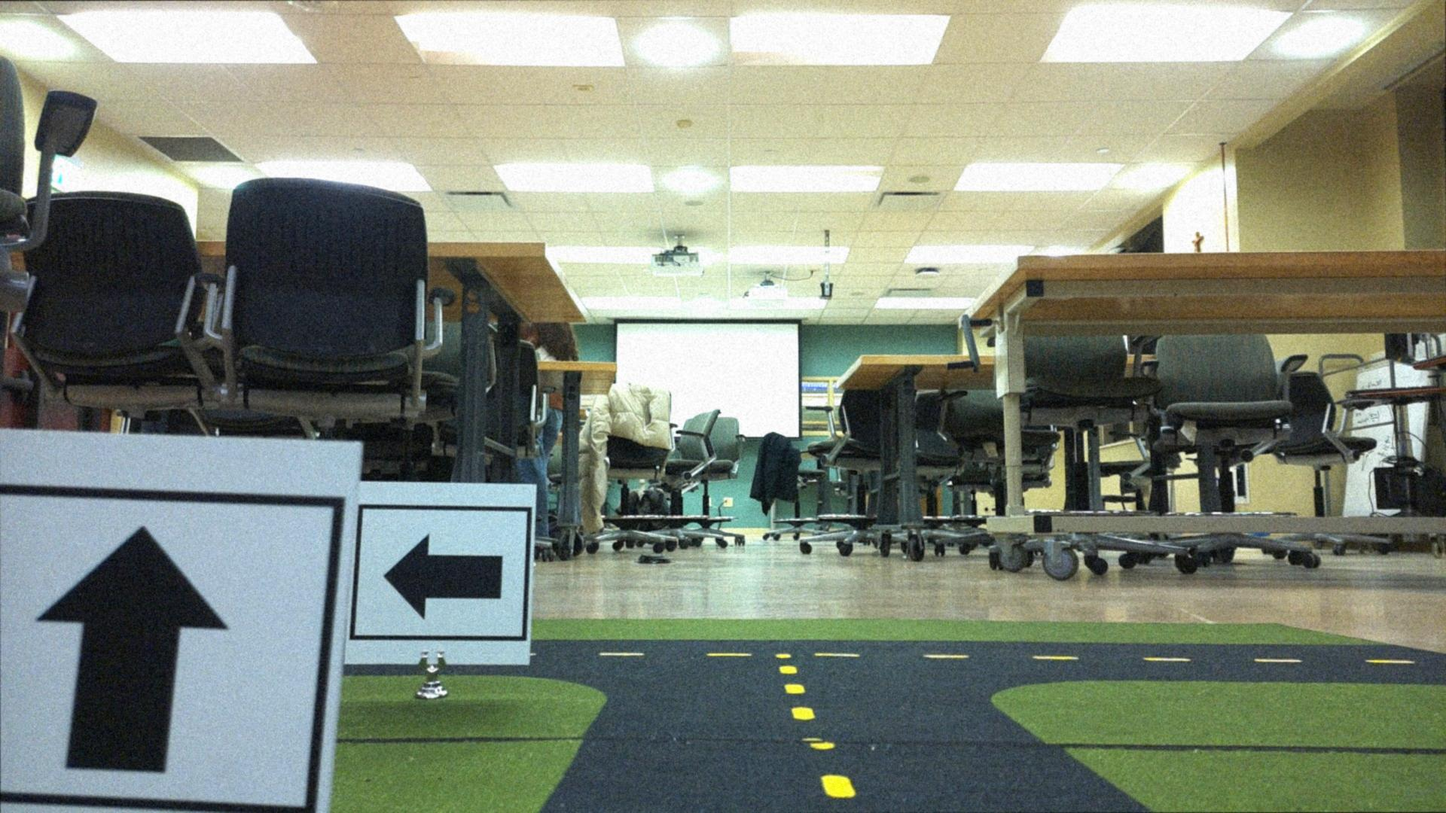gostraight: (2, 440, 334, 812)
turnleft: (358, 489, 529, 668)
yellowline: (780, 665, 851, 798)
